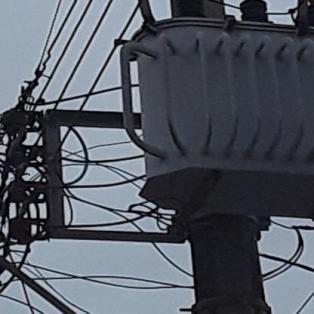Poste: (144, 0, 274, 314)
